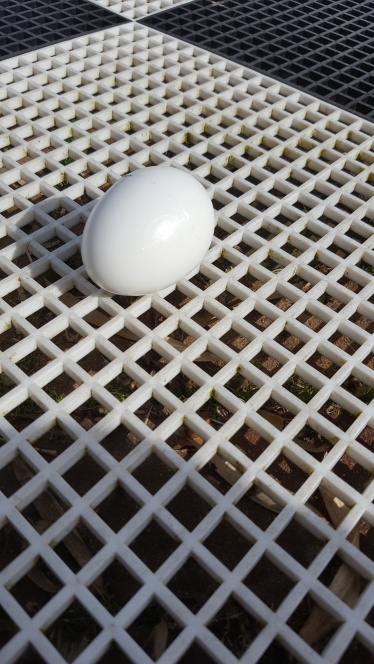egg: (81, 165, 215, 298)
